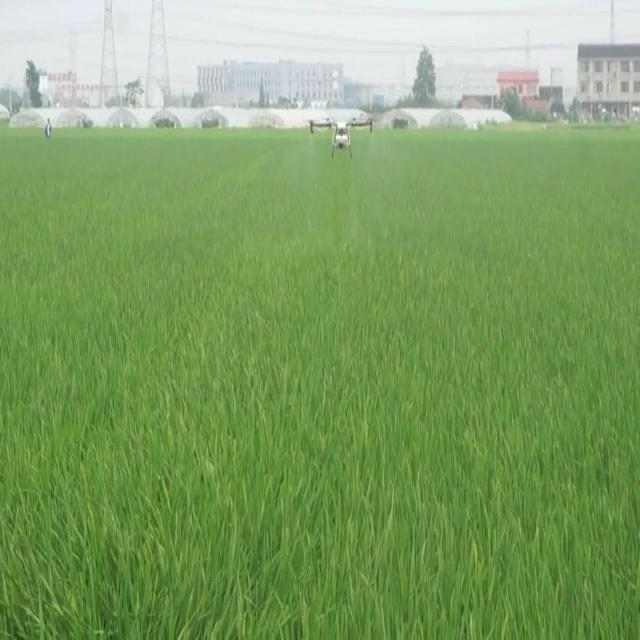UAV: (308, 116, 380, 160)
